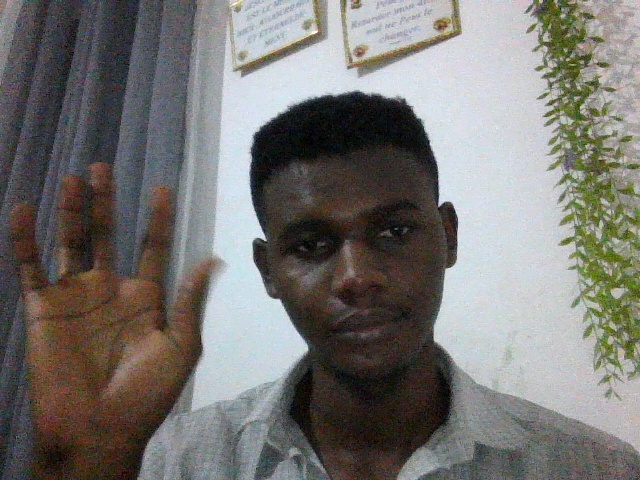hand: (1, 146, 226, 449)
